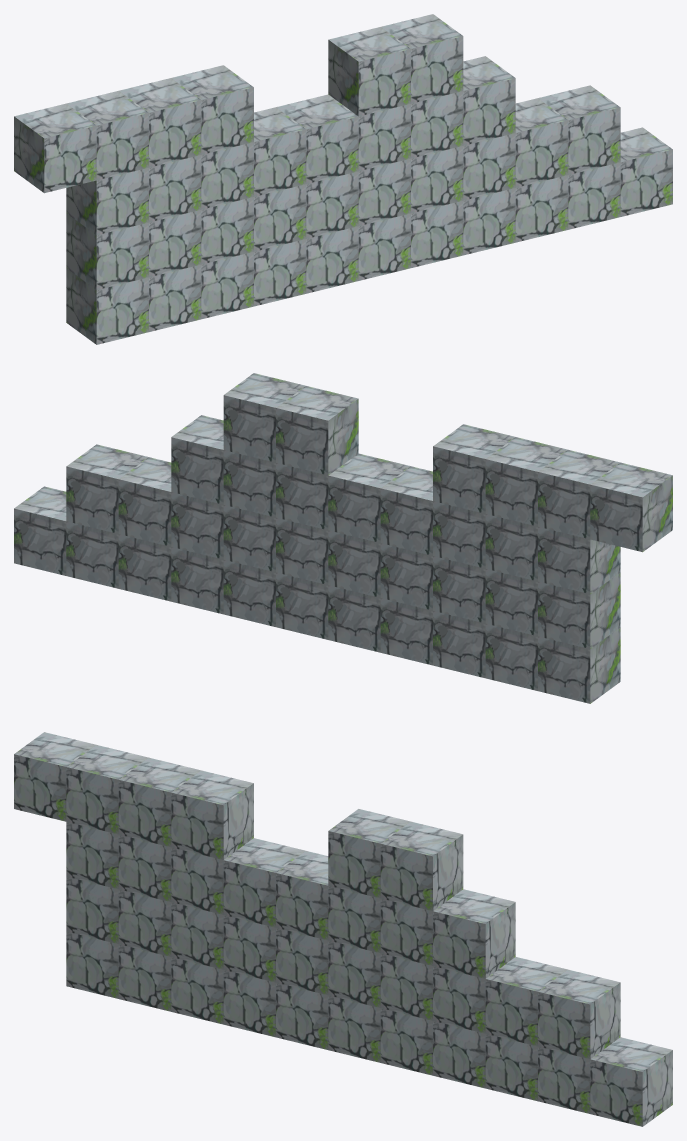
File: BrickWall3.fbx
3 views of the same model, one above another, from view 1: azimuth 30°, elevation 25°; view 2: azimuth 150°, elevation 25°; view 3: azimuth 330°, elevation 25° (orthographic).
Visible parts, largest first — view 1: pCube84; view 2: pCube84; view 3: pCube84.
Boxes of the visible parts, <box> form: pCube84: <box>14,14,672,344</box>; pCube84: <box>14,373,672,703</box>; pCube84: <box>14,732,672,1126</box>.
Bounding box in the file's own units: 4800 × 1600 × 400.
